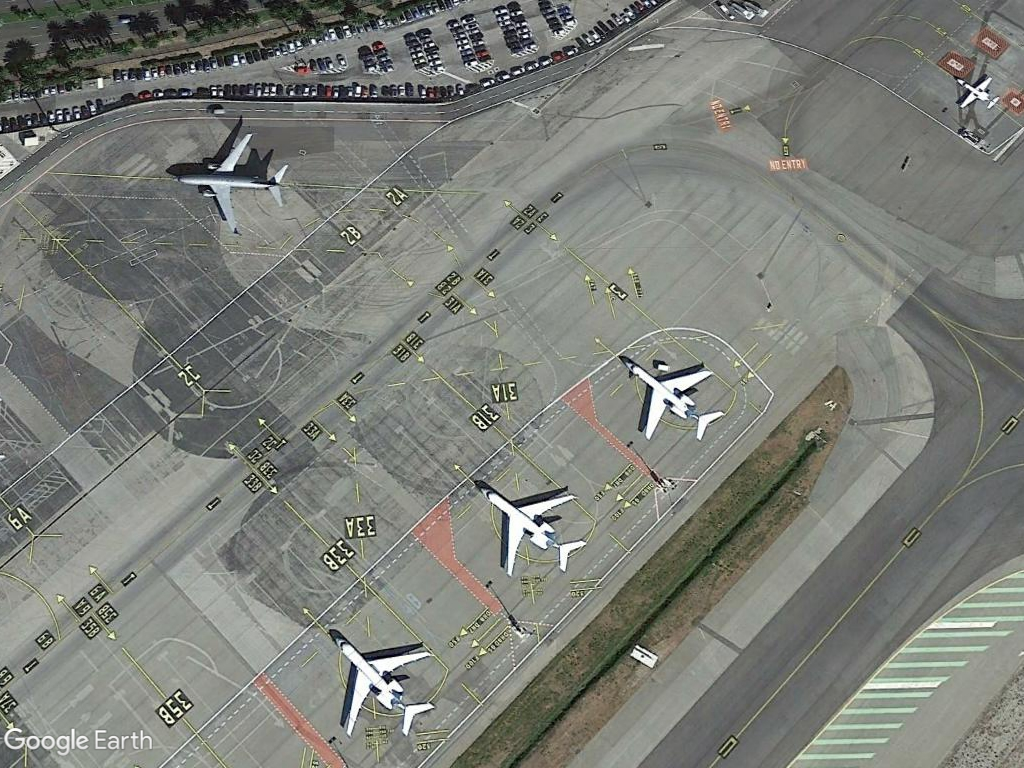airliner: (173, 127, 294, 239)
chartered: (324, 629, 437, 742), (474, 476, 592, 583), (619, 353, 727, 443)
